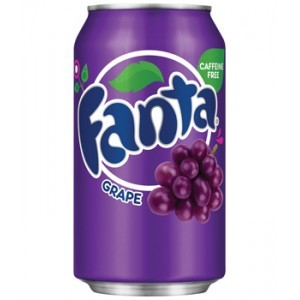fanta_can: (72, 5, 228, 297)
